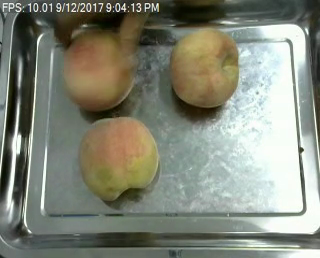Peach: (76, 114, 160, 203), (61, 28, 135, 109), (169, 26, 239, 108)
